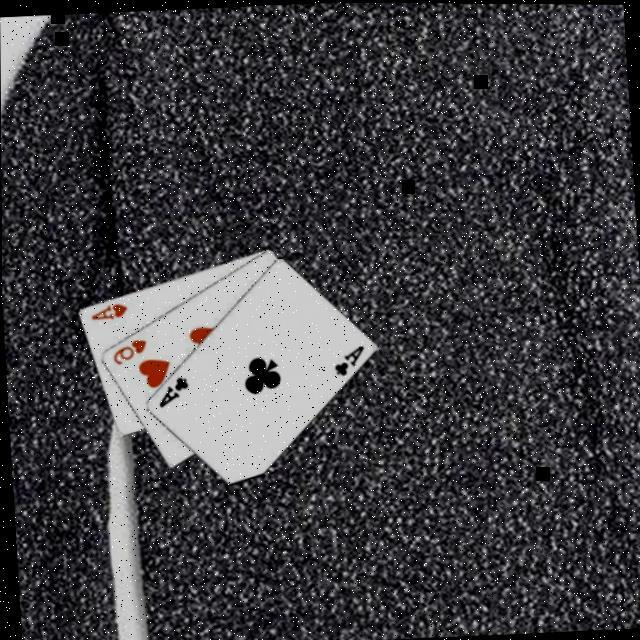6H: (108, 333, 150, 365)
AC: (154, 371, 192, 409), (331, 339, 368, 377)
AH: (88, 297, 130, 321)
